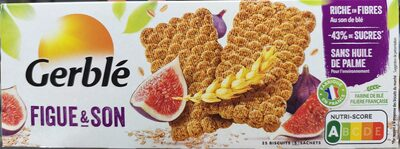Figue & son: (20, 7, 380, 142)
